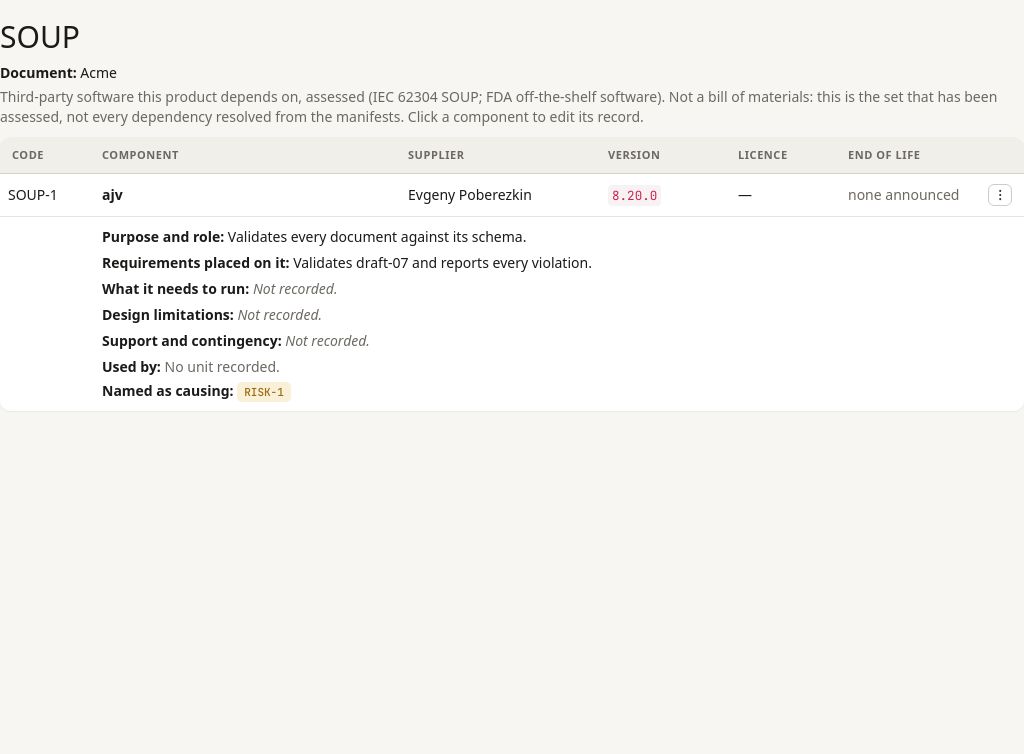
SoupTable — clicking opens the whole record › offers the fields hidden while reading — release date and source
Click the text "ajv": x=112, y=194 [102, 185, 123, 204]
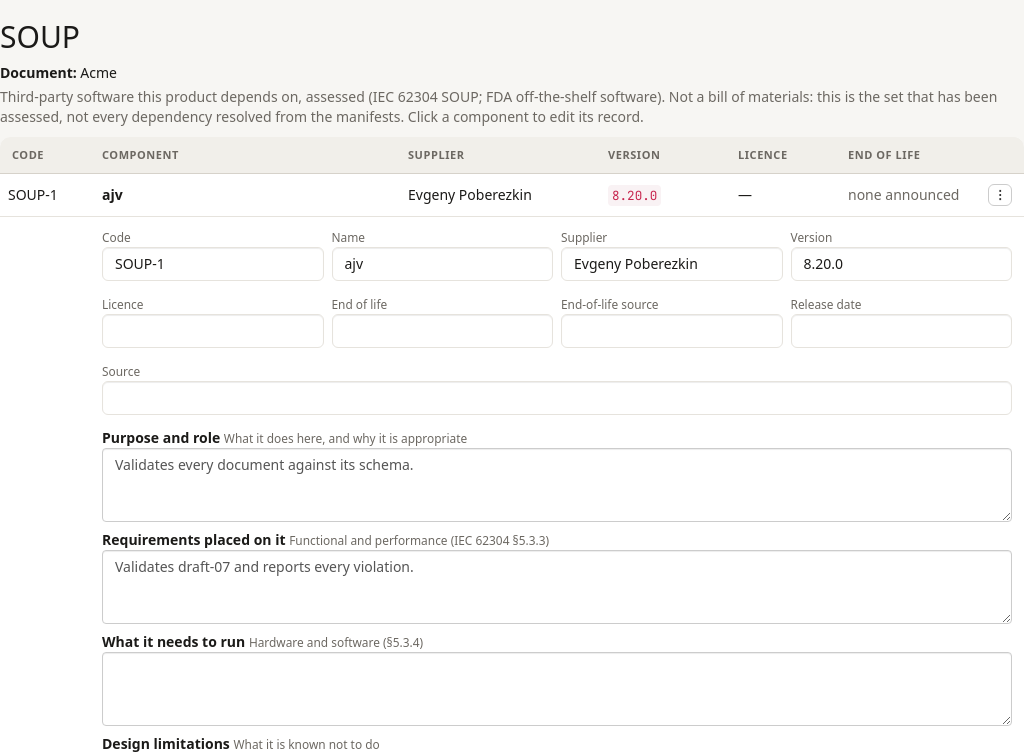
Expected: the field named "Release date of ajv" is shown, [790, 314, 1012, 348]
Expected: the field named "Source of ajv" is shown, [102, 381, 1012, 415]
